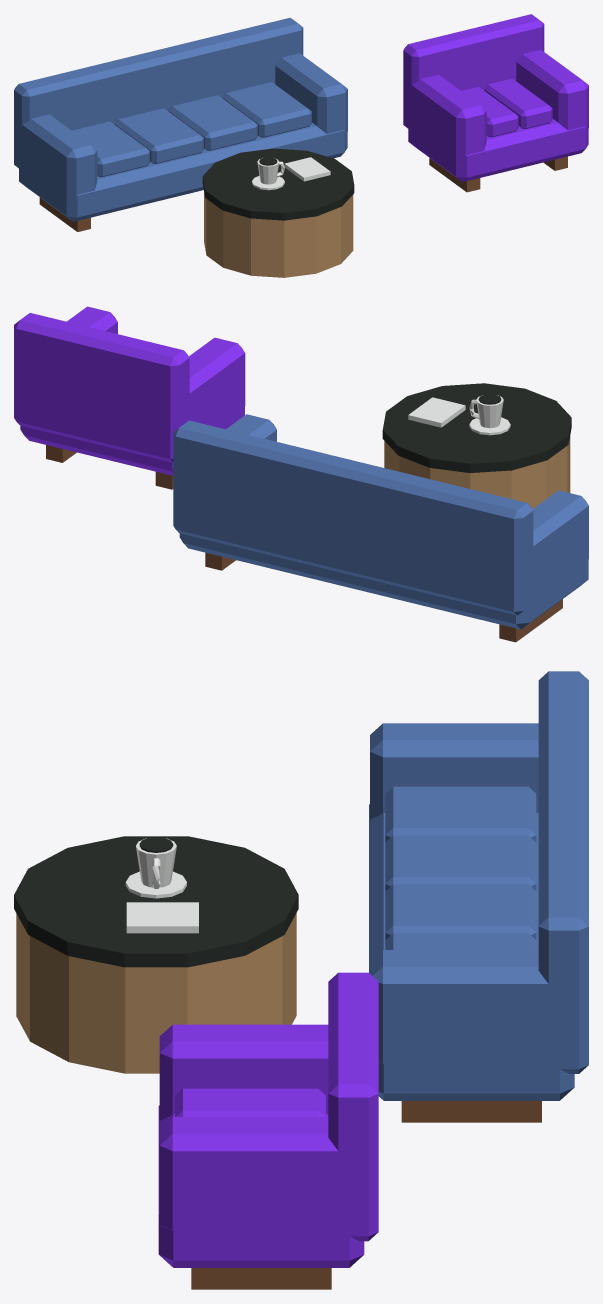
The model's file is gh_lounge_v01.glb.
3 renders of one model, top to bottom at view 1: azimuth 30°, elevation 25°; view 2: azimuth 150°, elevation 25°; view 3: azimuth 270°, elevation 25°, orthographic. The views are drawn at different scales.
Parts seen in each view (by area): view 1: Blue and purple lounge with stump coffee table; view 2: Blue and purple lounge with stump coffee table; view 3: Blue and purple lounge with stump coffee table.
Boxes of the visible parts, left/top/right/bottom form: Blue and purple lounge with stump coffee table: left=14, top=14, right=588, bottom=277; Blue and purple lounge with stump coffee table: left=14, top=306, right=588, bottom=642; Blue and purple lounge with stump coffee table: left=14, top=671, right=588, bottom=1289.
Size of the model in its own units: 4.56 by 1.09 by 2.63.
Materials: 1 (1 with a texture image).
